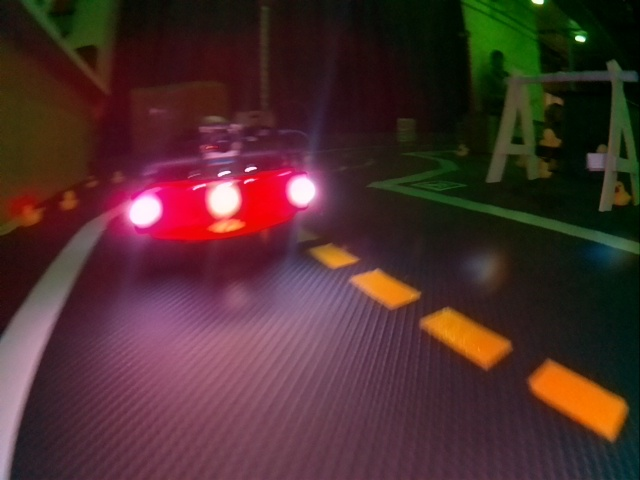Duckie: (22, 205, 42, 226), (614, 181, 630, 206), (542, 129, 560, 145), (61, 191, 76, 209), (86, 175, 99, 187)
Duckiebot: (130, 126, 311, 244)
